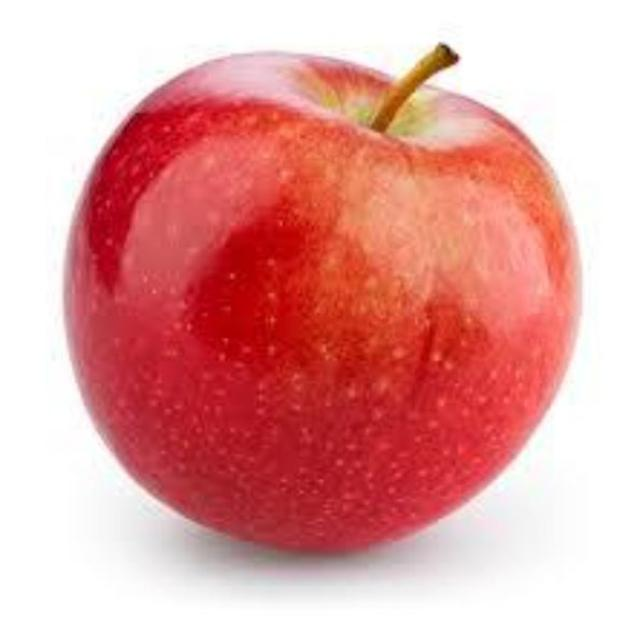Healty Apple: (41, 31, 580, 564)
